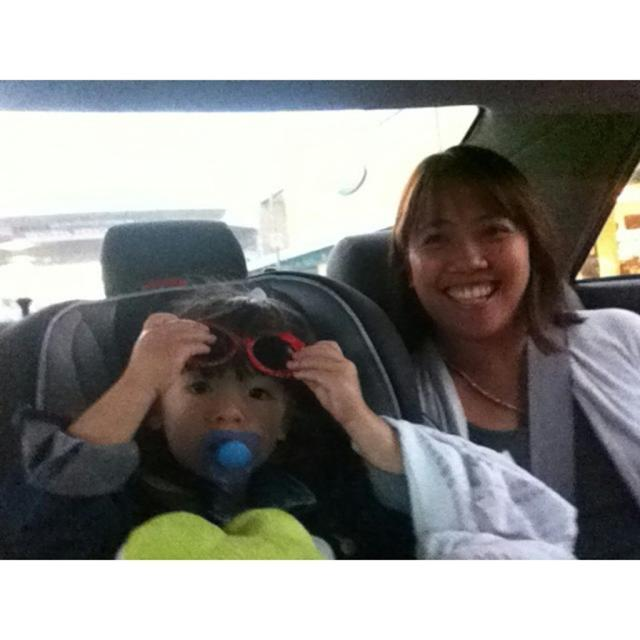car: (13, 84, 639, 574)
